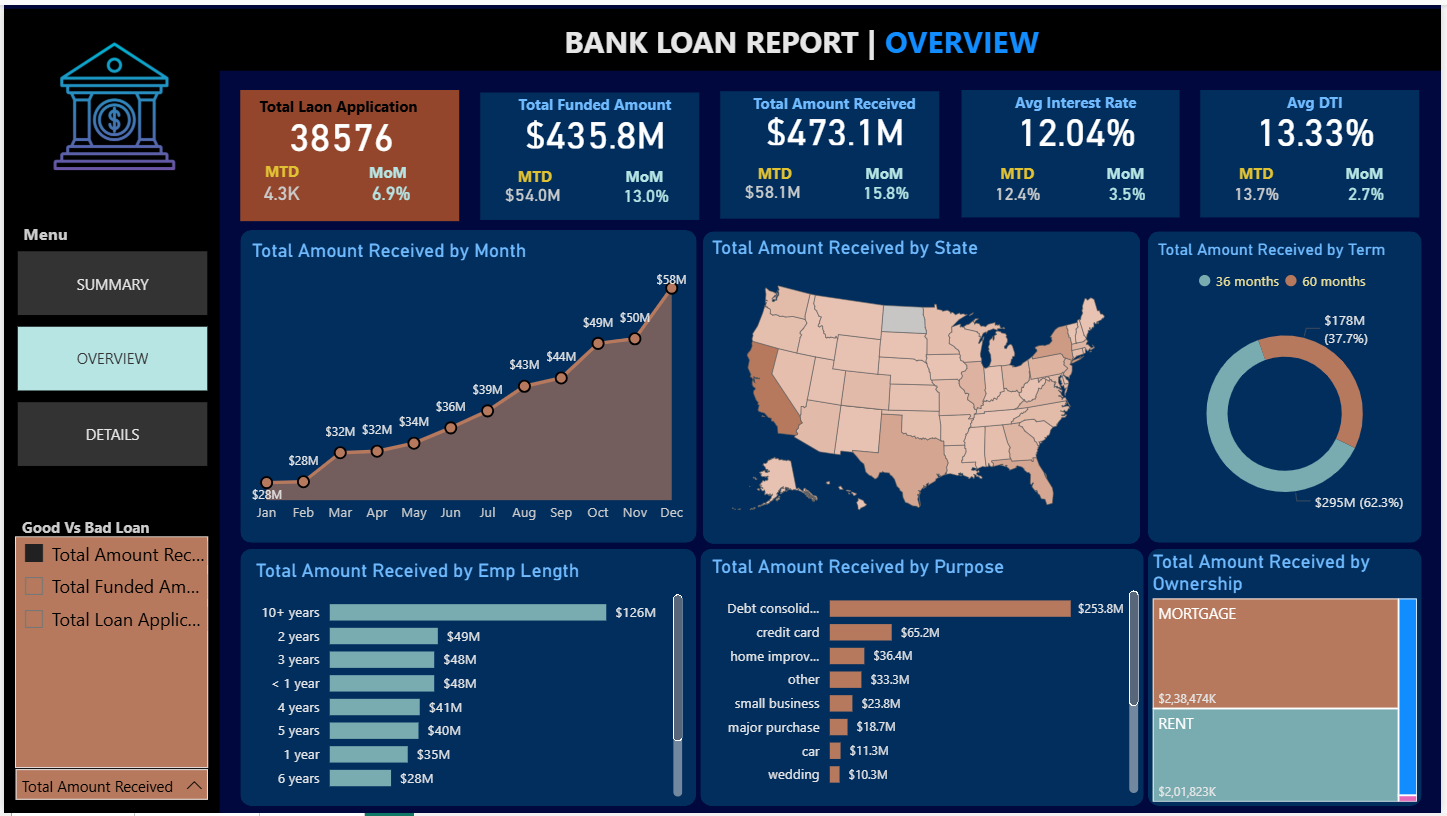

This screenshot's page, from the dashboard's own definition file:
{"tool":"powerbi","page":{"name":"OVERVIEW","canvas":[1280,720],"ordinal":1},"visuals":[{"type":"shape","box":[0,3.6,1280,55.5],"z":0},{"type":"group","id":"g1","title":"Group 3","box":[423.6,75.1,195.4,117],"z":0,"group":"g14"},{"type":"shape","box":[210.1,76.3,195,117],"z":0,"group":"g16"},{"type":"shape","box":[851.9,76.3,194.2,113.5],"z":0,"group":"g8"},{"type":"shape","box":[1065.5,76.3,195,113.5],"z":0,"group":"g15"},{"type":"shape","box":[637.2,77.4,195,113.5],"z":0,"group":"g2"},{"type":"shape","box":[423.6,78.7,195,113.5],"z":0,"group":"g1"},{"type":"card","fields":{"Values":["Measure.MTD For Amount"]},"box":[653.2,150.6,62.7,34.4],"z":0,"group":"g4"},{"type":"card","fields":{"Values":["Measure.MTD For Int Rate"]},"box":[870.3,151.4,62.7,35.1],"z":0,"group":"g5"},{"type":"card","fields":{"Values":["Measure.MTD For DTI"]},"box":[1084.4,151.4,63,35.1],"z":0,"group":"g6"},{"type":"card","fields":{"Values":["bank_loan_db bank_loan.MTD For Applications"]},"box":[220,151.8,54.3,33.8],"z":0,"group":"g3"},{"type":"card","fields":{"Values":["Measure.MTD For Fund"]},"box":[439.7,153.4,63,35.1],"z":0,"group":"g7"},{"type":"card","fields":{"Values":["Measure.MoM For Application"]},"box":[317.6,154.2,53.1,29],"z":0,"group":"g9"},{"type":"card","fields":{"Values":["Measure.MoM For Amount"]},"box":[758.6,154.7,53.1,27.5],"z":0,"group":"g10"},{"type":"card","fields":{"Values":["Measure.MoM For Int Rate"]},"box":[973.3,155.1,53.1,28.1],"z":0,"group":"g11"},{"type":"card","fields":{"Values":["Measure.MoM For DTI"]},"box":[1187.4,155.1,53.3,28.1],"z":0,"group":"g12"},{"type":"card","fields":{"Values":["Measure.MoM For Fund"]},"box":[545.4,157.5,53.3,28.1],"z":0,"group":"g13"},{"type":"shape","box":[210.9,200,406.6,278.7],"z":0,"group":"g17"},{"type":"shape","box":[621.8,201.2,389.7,278.7],"z":0,"group":"g18"},{"type":"shape","box":[209.9,483.8,406,229.2],"z":0,"group":"g19"},{"type":"group","id":"g2","title":"Group 3","box":[637.2,73.9,195.4,117],"z":1000,"group":"g14"},{"type":"group","id":"g3","title":"Group 1","box":[220,134.2,54.3,51.4],"z":1000,"group":"g16"},{"type":"textbox","box":[220,134.2,54.3,30.2],"z":1000,"group":"g3"},{"type":"textbox","box":[310.4,135.4,62.7,37.4],"z":1000,"group":"g9"},{"type":"textbox","box":[751.7,135.8,62.7,35.5],"z":1000,"group":"g10"},{"type":"textbox","box":[966.4,135.8,62.7,36.3],"z":1000,"group":"g11"},{"type":"textbox","box":[1180.5,135.8,63,36.3],"z":1000,"group":"g12"},{"type":"group","id":"g4","title":"Group 1","box":[653.2,136.1,64.3,48.9],"z":1000,"group":"g2"},{"type":"textbox","box":[656,136.1,61.5,28.7],"z":1000,"group":"g4"},{"type":"group","id":"g5","title":"Group 1","box":[870.3,136.2,62.7,50.3],"z":1000,"group":"g8"},{"type":"textbox","box":[870.6,136.2,61.5,29.2],"z":1000,"group":"g5"},{"type":"group","id":"g6","title":"Group 1","box":[1084.4,136.2,63,50.3],"z":1000,"group":"g15"},{"type":"textbox","box":[1084.4,136.2,61.8,29.2],"z":1000,"group":"g6"},{"type":"textbox","box":[538.5,138.2,63,36.3],"z":1000,"group":"g13"},{"type":"group","id":"g7","title":"Group 1","box":[439.7,138.6,64.5,49.9],"z":1000,"group":"g1"},{"type":"textbox","box":[442.5,138.6,61.8,29.2],"z":1000,"group":"g7"},{"type":"shape","box":[620.1,483.8,395,229.2],"z":1000},{"type":"shape","box":[0,54.9,192,665.5],"z":2000},{"type":"group","id":"g8","title":"Group 3","box":[851.9,72.7,194.2,117],"z":2000,"group":"g14"},{"type":"group","id":"g9","title":"Group 2","box":[310.4,135.4,62.7,47.8],"z":2000,"group":"g16"},{"type":"group","id":"g10","title":"Group 2","box":[751.7,135.8,62.7,46.4],"z":2000,"group":"g2"},{"type":"group","id":"g11","title":"Group 2","box":[966.4,135.8,62.7,47.4],"z":2000,"group":"g8"},{"type":"group","id":"g12","title":"Group 2","box":[1180.5,135.8,63,47.4],"z":2000,"group":"g15"},{"type":"group","id":"g13","title":"Group 2","box":[538.5,138.2,63,47.4],"z":2000,"group":"g1"},{"type":"group","id":"g14","title":"Group 5","box":[210.1,72.7,1050.8,120.6],"z":3000},{"type":"textbox","box":[868.6,72.7,170.1,29.2],"z":3000,"group":"g8"},{"type":"group","id":"g15","title":"Group 3","box":[1065.5,72.7,195.4,117],"z":3000,"group":"g14"},{"type":"textbox","box":[1082.3,72.7,170.8,29.2],"z":3000,"group":"g15"},{"type":"textbox","box":[653.9,73.9,170.1,28.7],"z":3000,"group":"g2"},{"type":"textbox","box":[440.3,75.1,170.8,29.2],"z":3000,"group":"g1"},{"type":"textbox","box":[217.3,76.5,159.3,27.7],"z":3000,"group":"g16"},{"type":"group","id":"g16","title":"Group 4","box":[210.1,76.3,195,117],"z":4000,"group":"g14"},{"type":"card","fields":{"Values":["Measure.Avg Interst Rate"]},"box":[883.3,91.4,142.4,39.8],"z":4000,"group":"g8"},{"type":"card","fields":{"Values":["Measure.Avg DTI"]},"box":[1097,91.4,142.9,39.8],"z":4000,"group":"g15"},{"type":"card","fields":{"Values":["Measure.Total Amount Received"]},"box":[668.6,92.2,142.4,39],"z":4000,"group":"g2"},{"type":"card","fields":{"Values":["Measure.Total Funded Amount"]},"box":[455.1,93.8,142.9,39.8],"z":4000,"group":"g1"},{"type":"card","fields":{"Values":["bank_loan_db bank_loan.Total Loan Application"]},"box":[240.1,95.3,120.6,42.2],"z":4000,"group":"g16"},{"type":"group","id":"g17","title":"Group 6","box":[210.9,200,406.6,278.7],"z":4000},{"type":"group","id":"g18","title":"Group 6","box":[621.8,201.2,389.7,278.7],"z":5000},{"type":"slicer","fields":{"Values":["bank_loan.grade"]},"box":[0,536.6,191.7,48.6],"z":6000},{"type":"slicer","fields":{"Values":["bank_loan.address_state"]},"box":[0,610.7,191.7,48.6],"z":7000},{"type":"slicer","fields":{"Values":["bank_loan.Good Vs Bad Loan"]},"box":[0,471.5,191.7,48.6],"z":8000},{"type":"textbox","box":[10.2,517.5,72.8,29.4],"z":9000},{"type":"textbox","box":[11.5,588.5,58.8,35.8],"z":10000},{"type":"textbox","box":[470.5,8.4,479,45.8],"z":11000},{"type":"lineChart","fields":{"Y":["Measure.Total Amount Received"],"Category":["Calendar.Month Name"]},"box":[215.7,208.4,397,262],"z":12000},{"type":"textbox","box":[11.4,450.8,134,30],"z":13000},{"type":"shape","box":[1018.6,201.2,244,277.5],"z":14000},{"type":"barChart","fields":{"Y":["Measure.Total Amount Received"],"Category":["bank_loan.emp_length"]},"box":[218.3,492.2,390,217],"z":14004,"group":"g19"},{"type":"donutChart","fields":{"Y":["Measure.Total Amount Received"],"Category":["bank_loan.term"]},"box":[1027.3,209.6,226,260],"z":15000},{"type":"group","id":"g19","title":"Group 7","box":[209.9,483.8,406,229.2],"z":16000},{"type":"barChart","fields":{"Y":["Measure.Total Amount Received"],"Category":["bank_loan.purpose"]},"box":[625.1,489.8,389.7,217.2],"z":17000},{"type":"shape","box":[1018.2,483.8,244,229.2],"z":18000},{"type":"treemap","fields":{"Group":["bank_loan.home_ownership"],"Values":["Measure.Total Amount Received"]},"box":[1023.1,485,235.3,224.4],"z":19000},{"type":"textbox","box":[10.9,650.7,113.4,29],"z":19000,"group":"g20"},{"type":"shapeMap","fields":{"Value":["Measure.Total Amount Received"],"Category":["bank_loan.address_state"]},"box":[626.1,206.3,378,269],"z":20000},{"type":"slicer","fields":{"Values":["Select Measure.Select Measure"]},"box":[0,670,191.8,45.8],"z":20000,"group":"g20"},{"type":"group","id":"g20","title":"Group 8","box":[0,650.7,191.8,65.1],"z":21000},{"type":"image","box":[36.2,27.7,123.1,125.5],"z":22000},{"type":"textbox","box":[12.1,188.2,72.4,30.2],"z":23000},{"type":"pageNavigator","box":[12.1,219.6,169,193],"z":24000}]}

Visuals, with their boxes in screenshot pixels (x1, y1, x2, y2), scaled from the page's 1280x720 canvas onto the 1447x816 screenshot:
shape: detection(0, 4, 1446, 67)
"Group 3" group: detection(479, 85, 700, 218)
shape: detection(238, 86, 458, 219)
shape: detection(963, 86, 1183, 215)
shape: detection(1205, 86, 1425, 215)
shape: detection(720, 88, 941, 216)
shape: detection(479, 89, 699, 218)
card - Measure.MTD For Amount: detection(738, 171, 809, 210)
card - Measure.MTD For Int Rate: detection(984, 172, 1055, 211)
card - Measure.MTD For DTI: detection(1226, 172, 1297, 211)
card - bank_loan_db bank_loan.MTD For Applications: detection(249, 172, 310, 210)
card - Measure.MTD For Fund: detection(497, 174, 568, 214)
card - Measure.MoM For Application: detection(359, 175, 419, 208)
card - Measure.MoM For Amount: detection(858, 175, 918, 206)
card - Measure.MoM For Int Rate: detection(1100, 176, 1160, 208)
card - Measure.MoM For DTI: detection(1342, 176, 1403, 208)
card - Measure.MoM For Fund: detection(617, 178, 677, 210)
shape: detection(238, 227, 698, 543)
shape: detection(703, 228, 1143, 544)
shape: detection(237, 548, 696, 808)
"Group 3" group: detection(720, 84, 941, 216)
"Group 1" group: detection(249, 152, 310, 210)
textbox: detection(249, 152, 310, 186)
textbox: detection(351, 153, 422, 196)
textbox: detection(850, 154, 921, 194)
textbox: detection(1092, 154, 1163, 195)
textbox: detection(1335, 154, 1406, 195)
"Group 1" group: detection(738, 154, 811, 210)
textbox: detection(742, 154, 811, 187)
"Group 1" group: detection(984, 154, 1055, 211)
textbox: detection(984, 154, 1054, 187)
"Group 1" group: detection(1226, 154, 1297, 211)
textbox: detection(1226, 154, 1296, 187)
textbox: detection(609, 157, 680, 198)
"Group 1" group: detection(497, 157, 570, 214)
textbox: detection(500, 157, 570, 190)
shape: detection(701, 548, 1148, 808)
shape: detection(0, 62, 217, 815)
"Group 3" group: detection(963, 82, 1183, 215)
"Group 2" group: detection(351, 153, 422, 208)
"Group 2" group: detection(850, 154, 921, 206)
"Group 2" group: detection(1092, 154, 1163, 208)
"Group 2" group: detection(1335, 154, 1406, 208)
"Group 2" group: detection(609, 157, 680, 210)
"Group 5" group: detection(238, 82, 1425, 219)
textbox: detection(982, 82, 1174, 115)
"Group 3" group: detection(1205, 82, 1425, 215)
textbox: detection(1224, 82, 1417, 115)
textbox: detection(739, 84, 932, 116)
textbox: detection(498, 85, 691, 118)
textbox: detection(246, 87, 426, 118)
"Group 4" group: detection(238, 86, 458, 219)
card - Measure.Avg Interst Rate: detection(999, 104, 1160, 149)
card - Measure.Avg DTI: detection(1240, 104, 1402, 149)
card - Measure.Total Amount Received: detection(756, 104, 917, 149)
card - Measure.Total Funded Amount: detection(514, 106, 676, 151)
card - bank_loan_db bank_loan.Total Loan Application: detection(271, 108, 408, 156)
"Group 6" group: detection(238, 227, 698, 543)
"Group 6" group: detection(703, 228, 1143, 544)
slicer - bank_loan.grade: detection(0, 608, 217, 663)
slicer - bank_loan.address_state: detection(0, 692, 217, 747)
slicer - bank_loan.Good Vs Bad Loan: detection(0, 534, 217, 589)
textbox: detection(12, 586, 94, 620)
textbox: detection(13, 667, 79, 708)
textbox: detection(532, 10, 1073, 61)
lineChart - Measure.Total Amount Received x Calendar.Month Name: detection(244, 236, 693, 533)
textbox: detection(13, 511, 164, 545)
shape: detection(1151, 228, 1427, 543)
barChart - Measure.Total Amount Received x bank_loan.emp_length: detection(247, 558, 688, 804)
donutChart - Measure.Total Amount Received x bank_loan.term: detection(1161, 238, 1417, 532)
"Group 7" group: detection(237, 548, 696, 808)
barChart - Measure.Total Amount Received x bank_loan.purpose: detection(707, 555, 1147, 801)
shape: detection(1151, 548, 1427, 808)
treemap - bank_loan.home_ownership x Measure.Total Amount Received: detection(1157, 550, 1423, 804)
textbox: detection(12, 737, 141, 770)
shapeMap - Measure.Total Amount Received x bank_loan.address_state: detection(708, 234, 1135, 539)
slicer - Select Measure.Select Measure: detection(0, 759, 217, 811)
"Group 8" group: detection(0, 737, 217, 811)
image: detection(41, 31, 180, 174)
textbox: detection(14, 213, 96, 248)
pageNavigator: detection(14, 249, 205, 468)
